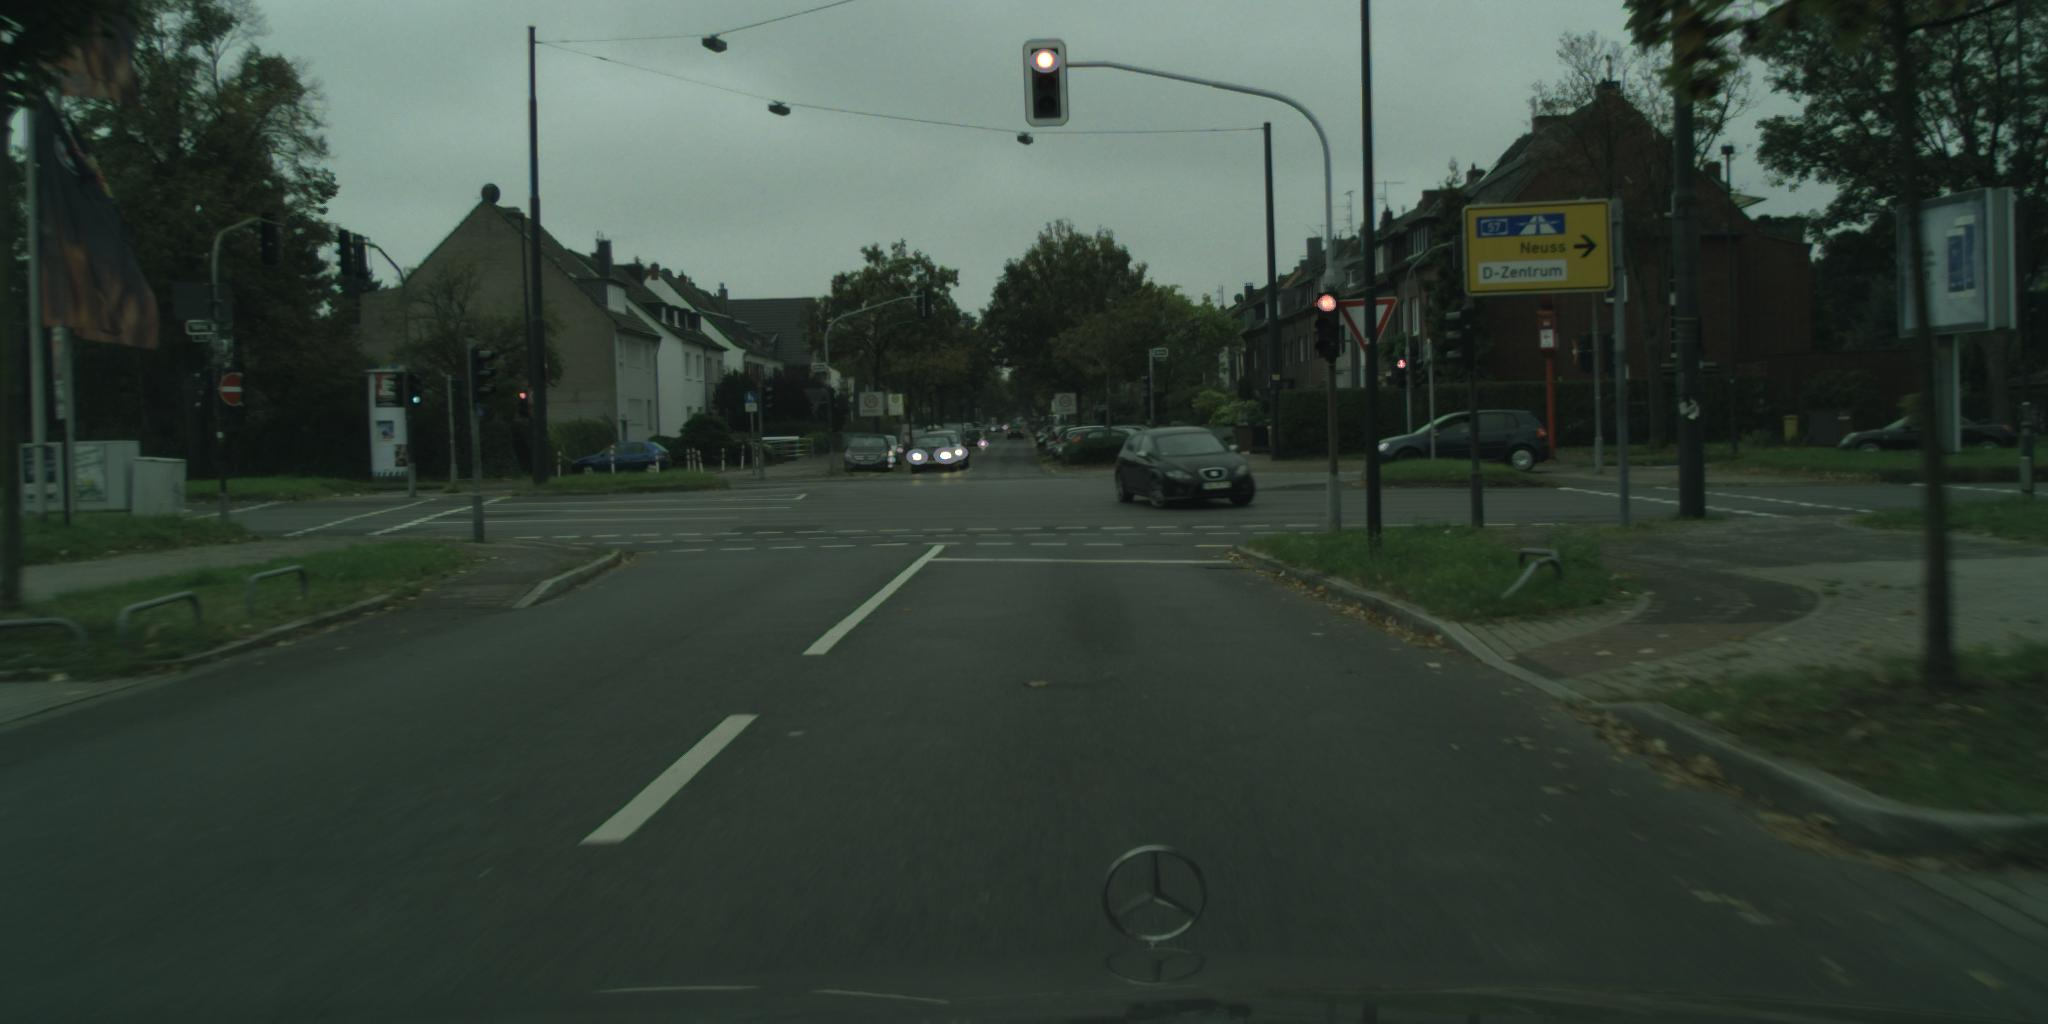car: (1115, 427, 1256, 509), (1373, 411, 1552, 474), (1839, 411, 2019, 458), (1563, 402, 1674, 445), (573, 441, 671, 478), (845, 435, 893, 474), (925, 431, 970, 472), (910, 436, 957, 475), (878, 438, 904, 470), (963, 430, 986, 451), (1008, 427, 1025, 440)
